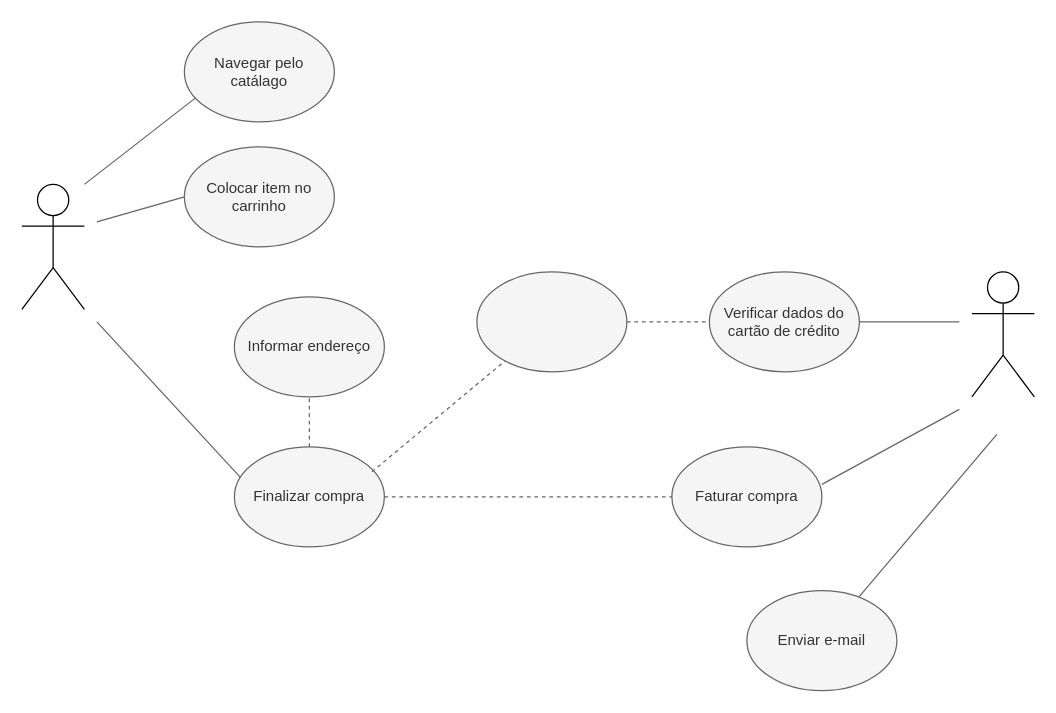
This 1056x713 diagram has some shape labels left out. Here are the shapes that lost their labels. From the top down, the centre of each, then its label:
(52,246): Cliente
(551,321): Preencher dados do cartão de crédito
(1002,334): Sistema
